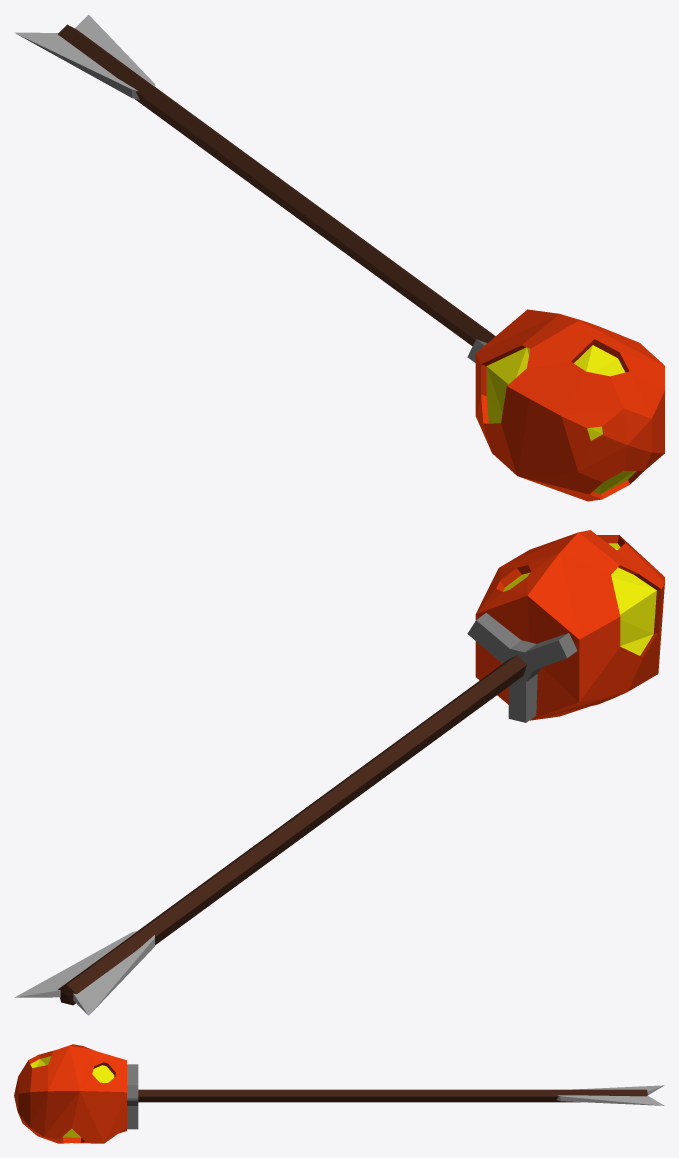
File: Arrow_Explosion.fbx
The picture shows the model from 3 angles, top to bottom: view 1: azimuth 30°, elevation 25°; view 2: azimuth 150°, elevation 25°; view 3: azimuth 270°, elevation 25°; orthographic projection. The views are drawn at different scales.
Parts seen in each view (by area): view 1: Arrow_Explo; view 2: Arrow_Explo; view 3: Arrow_Explo.
Boxes of the visible parts, x1,y1,x2,y2 form: Arrow_Explo: (14, 14, 664, 501); Arrow_Explo: (14, 530, 664, 1015); Arrow_Explo: (14, 1044, 664, 1143).
Bounding box in the file's own units: 34.98 × 38.1 × 229.
